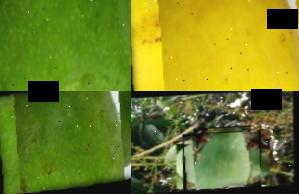Ripe: (131, 0, 299, 91)
Unripe: (0, 91, 131, 194), (0, 0, 131, 91), (181, 130, 263, 192)
